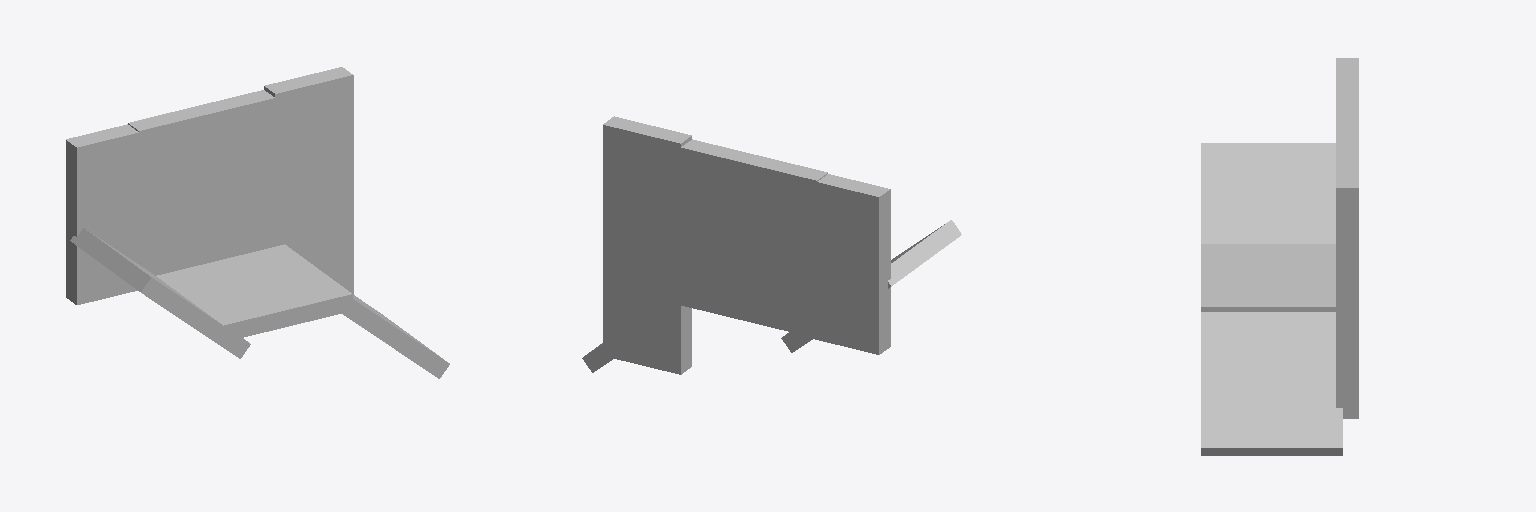
Rendered from TestObjCollision0Mat.obj.
The picture shows the model from 3 angles: view 1: azimuth 30°, elevation 25°; view 2: azimuth 150°, elevation 25°; view 3: azimuth 270°, elevation 25°; orthographic projection.
Visible parts, largest first — view 1: Cube_Cube.001, Cube.002_Cube.003, Cube.001_Cube.002, Cube.003_Cube.004, Cube.004_Cube.005, Cube.005_Cube.006; view 2: Cube_Cube.001, Cube.002_Cube.003, Cube.001_Cube.002, Cube.004_Cube.005; view 3: Cube.005_Cube.006, Cube.004_Cube.005, Cube.003_Cube.004, Cube.002_Cube.003, Cube_Cube.001, Cube.001_Cube.002.
Part boxes in pixels (x1,y1,x2,y2): Cube_Cube.001: (128, 90, 295, 275); Cube.002_Cube.003: (264, 67, 353, 294); Cube.001_Cube.002: (66, 124, 154, 304); Cube.003_Cube.004: (156, 244, 352, 342); Cube.004_Cube.005: (70, 228, 250, 358); Cube.005_Cube.006: (342, 295, 449, 378); Cube_Cube.001: (660, 139, 827, 338); Cube.002_Cube.003: (603, 116, 691, 374); Cube.001_Cube.002: (801, 174, 890, 354); Cube.004_Cube.005: (781, 220, 961, 352); Cube.005_Cube.006: (1201, 312, 1342, 455); Cube.004_Cube.005: (1201, 143, 1335, 243); Cube.003_Cube.004: (1201, 244, 1335, 311); Cube.002_Cube.003: (1336, 150, 1358, 418); Cube_Cube.001: (1336, 87, 1358, 149); Cube.001_Cube.002: (1336, 58, 1358, 86).
Bounding box in the file's own units: 14.13 × 11.31 × 6.25.